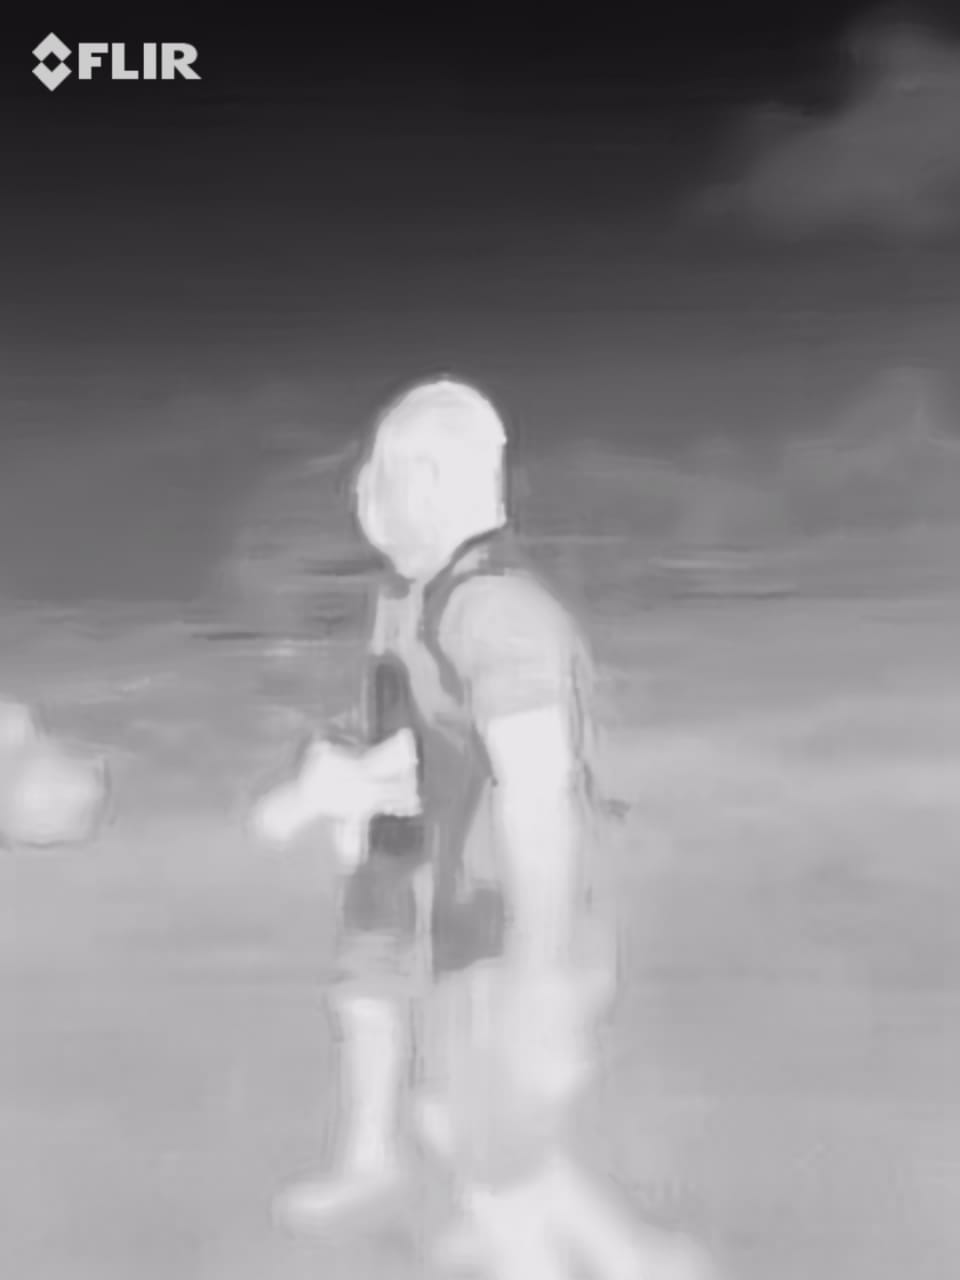head: (364, 373, 513, 581)
